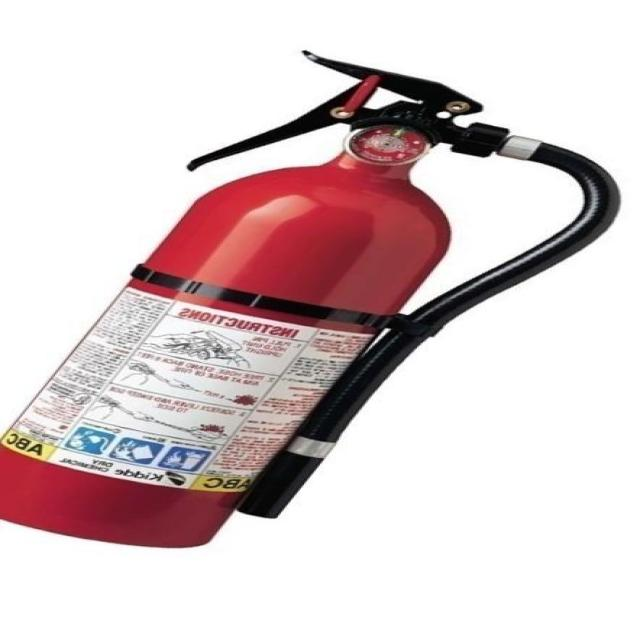fire_extinguisher: (0, 45, 627, 556)
